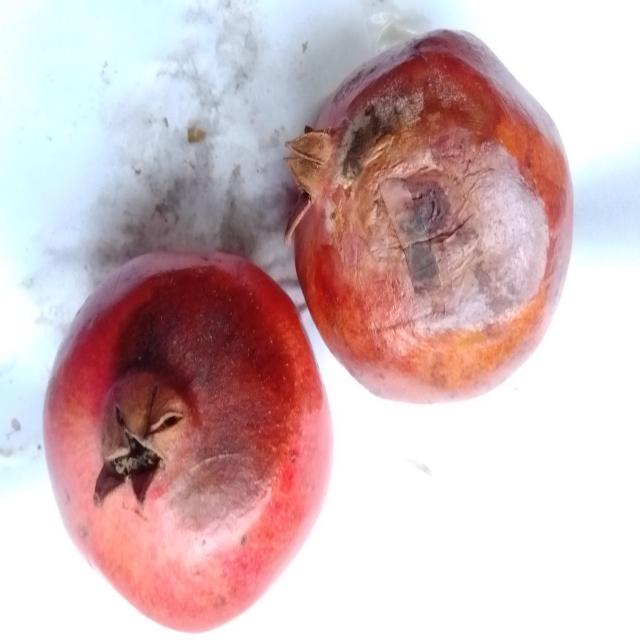Rotten: (38, 240, 338, 640), (282, 22, 579, 410)
